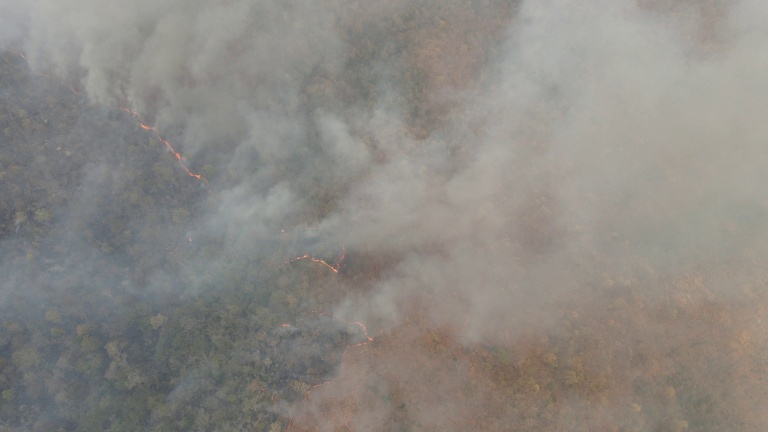fire: (113, 105, 227, 209), (1, 39, 111, 105), (257, 369, 339, 432), (311, 305, 378, 362), (274, 241, 347, 281), (276, 320, 297, 336)
smoke: (353, 5, 763, 323), (9, 1, 394, 214)
